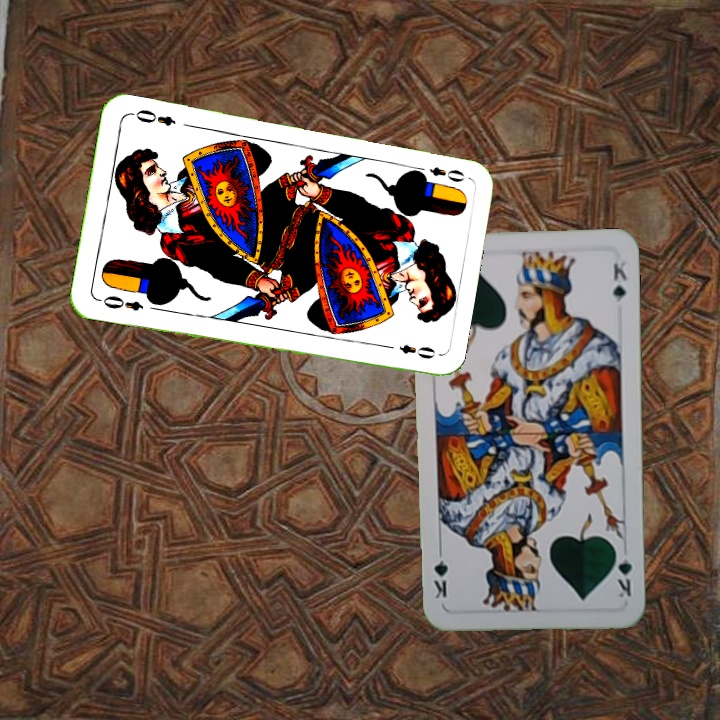EO: (410, 162, 467, 185), (94, 291, 146, 314)
GK: (612, 543, 635, 600)
